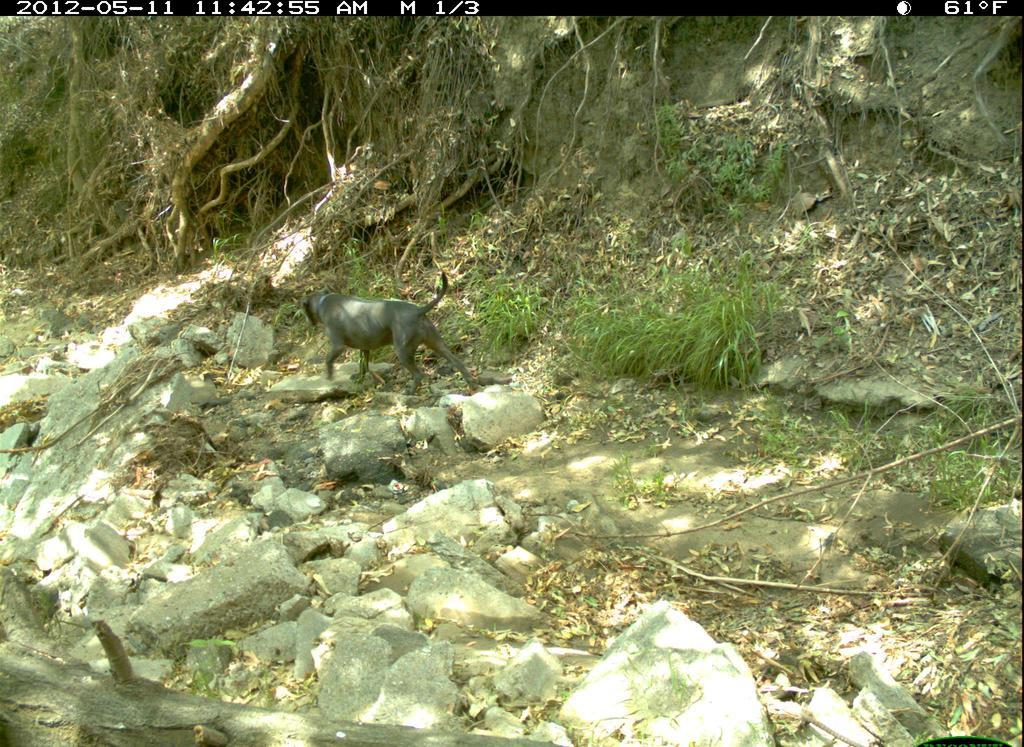dog: (301, 272, 481, 392)
